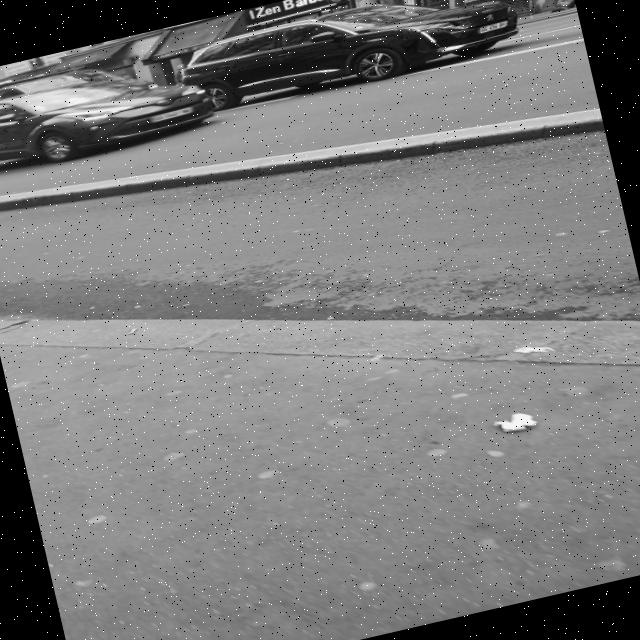Autre: (143, 97, 207, 127), (471, 14, 525, 38)
